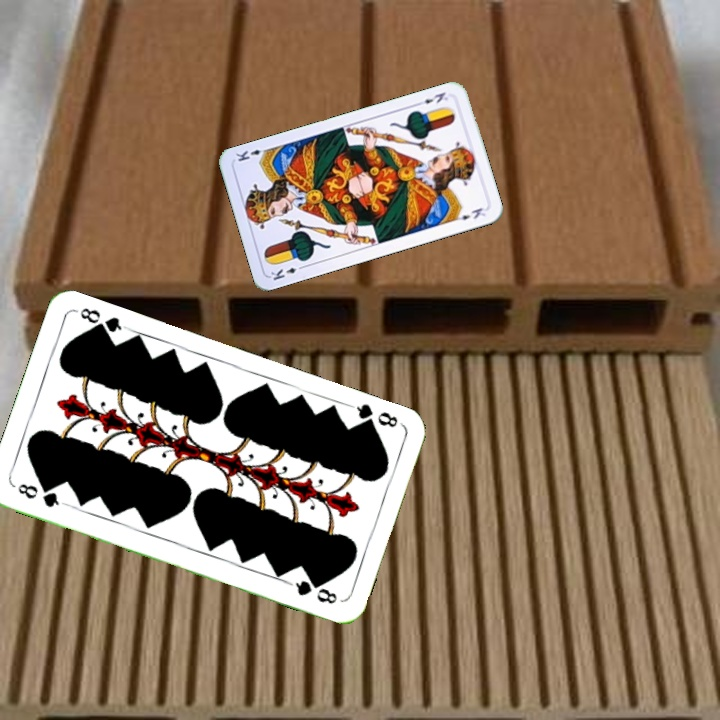EK: (267, 261, 307, 283), (413, 88, 451, 109)
G8: (346, 399, 403, 432), (13, 479, 68, 510)
